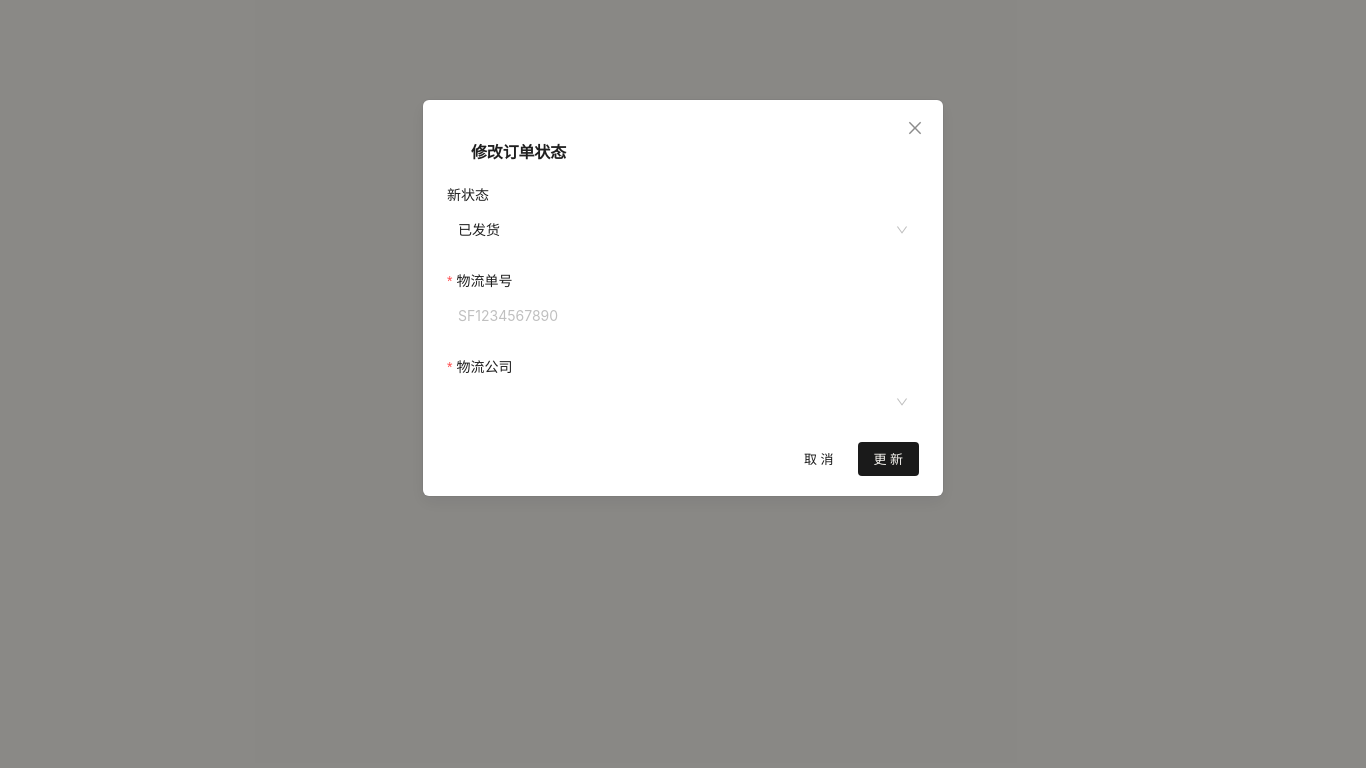
Test: <StatusModal /> › renders only valid transitions in the select
Click the dropdown labelled "已发货" at (479, 230), box x1=458 y1=221 x2=500 y2=238
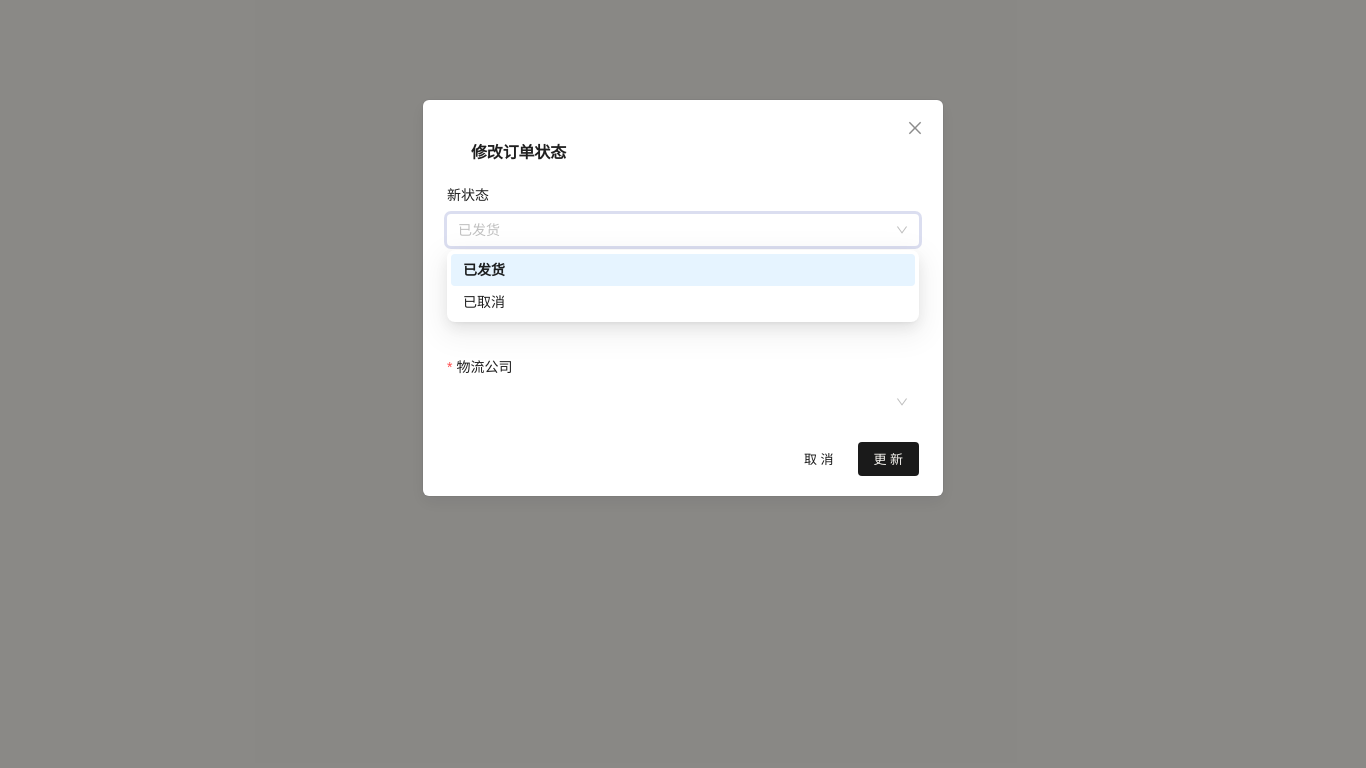
Now the element showing "已发货 已取消" is shown, box x1=447 y1=250 x2=919 y2=322
